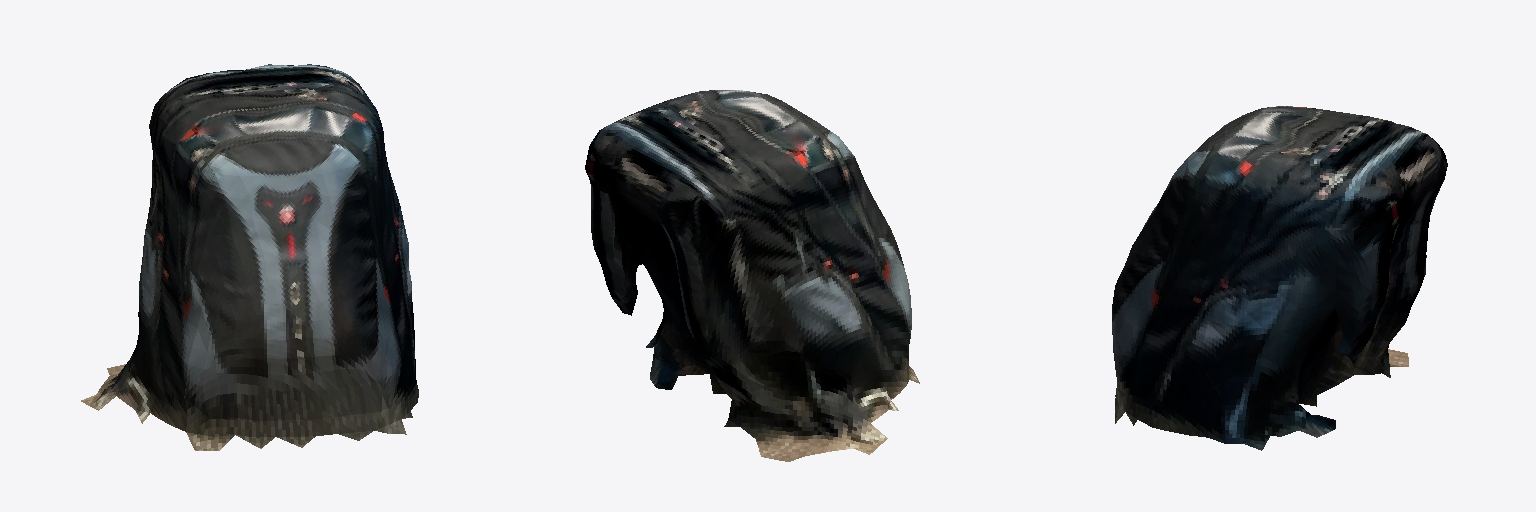
The picture shows the model from 3 angles: view 1: azimuth 30°, elevation 25°; view 2: azimuth 150°, elevation 25°; view 3: azimuth 270°, elevation 25°; orthographic projection.
Parts seen in each view (by area): view 1: poly; view 2: poly; view 3: poly.
Part boxes in pixels (x1,y1,x2,y2): poly: (81,64,418,450); poly: (585,90,919,461); poly: (1112,106,1447,450).
Bounding box in the file's own units: 0.4281 × 0.4117 × 0.4489.
1 materials, 1 textured.